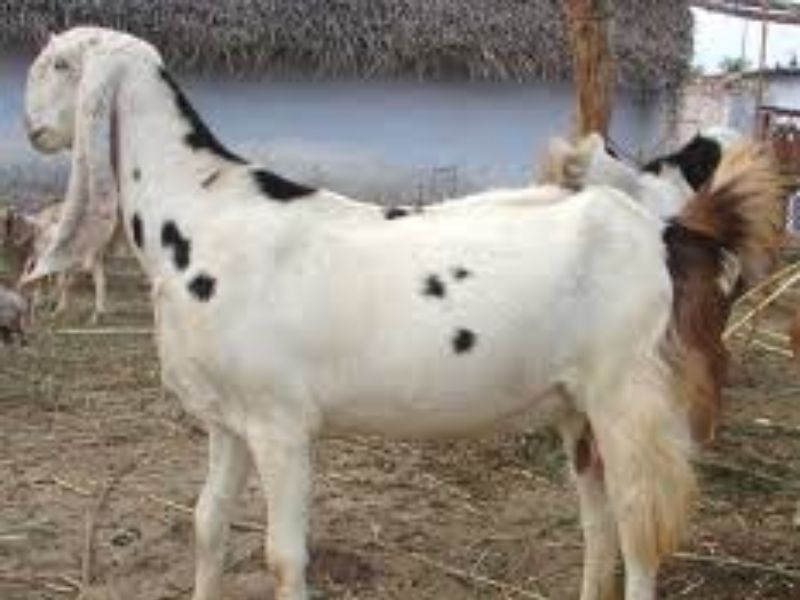sheep: (12, 16, 785, 600)
